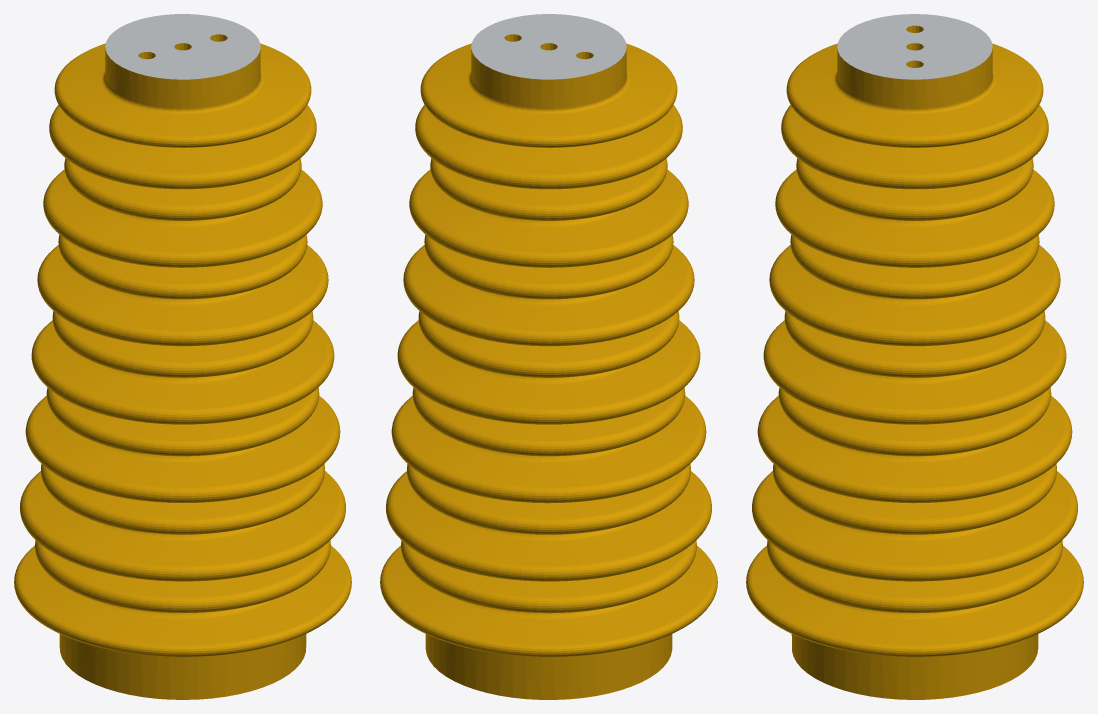
The picture shows the model from 3 angles, left to right: view 1: azimuth 30°, elevation 25°; view 2: azimuth 150°, elevation 25°; view 3: azimuth 270°, elevation 25°; orthographic projection.
Parts seen in each view (by area): view 1: 23; view 2: 23; view 3: 23.
Part boxes in pixels (<box>): 23: <box>14,14,351,699</box>; 23: <box>380,14,717,699</box>; 23: <box>746,14,1083,699</box>.
Bounding box in the file's own units: 163 × 320 × 163.
